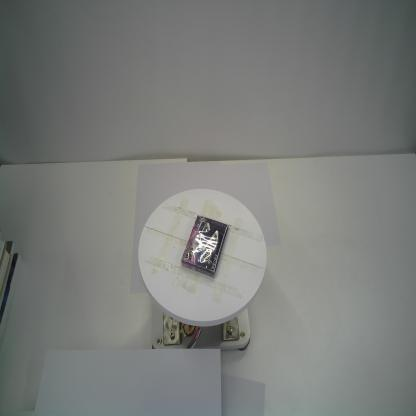Gum: (180, 214, 230, 279)
